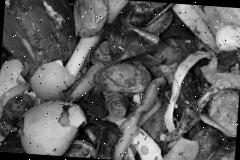organic: (13, 91, 85, 158), (170, 3, 240, 50), (97, 15, 154, 70), (24, 56, 82, 99), (74, 54, 110, 104)
